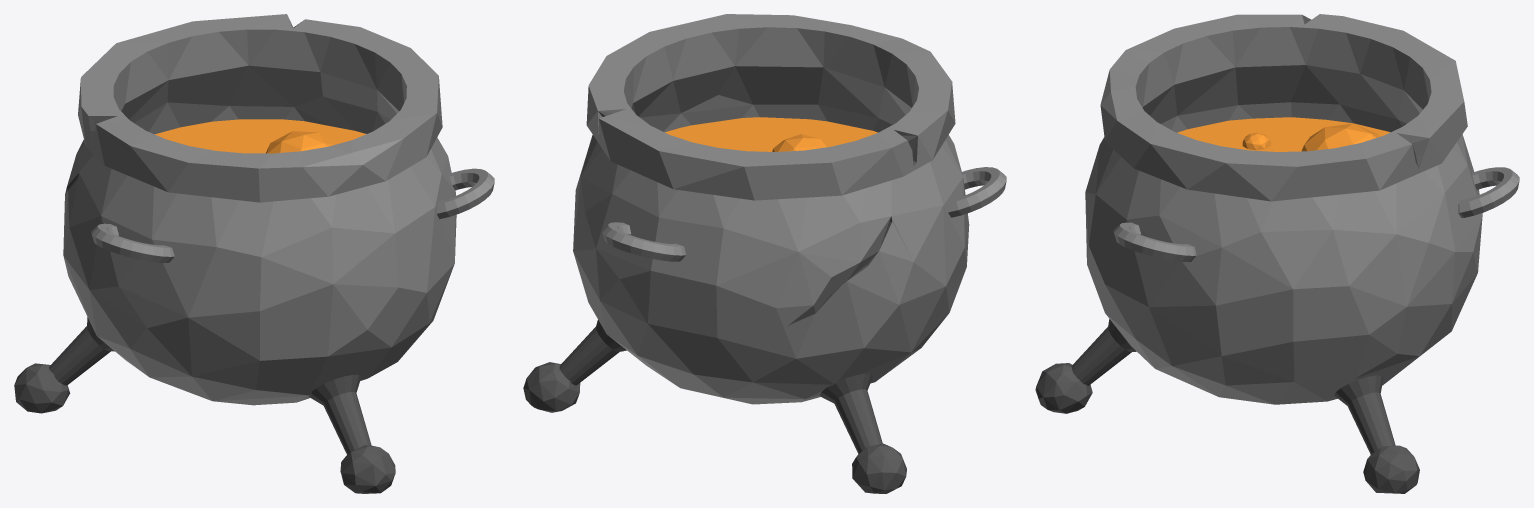
Rendered from Cauldron_Mid.fbx.
3 views of the same model, side by side, from view 1: azimuth 30°, elevation 25°; view 2: azimuth 150°, elevation 25°; view 3: azimuth 270°, elevation 25° (orthographic).
Parts seen in each view (by area): view 1: Cauldron Mid, Cauldron Big Fill; view 2: Cauldron Mid, Cauldron Big Fill; view 3: Cauldron Mid, Cauldron Big Fill.
Boxes of the visible parts, x1,y1,x2,y2 form: Cauldron Mid: (14, 14, 494, 493); Cauldron Big Fill: (155, 119, 366, 153); Cauldron Mid: (523, 14, 1006, 493); Cauldron Big Fill: (665, 117, 877, 151); Cauldron Mid: (1035, 14, 1519, 493); Cauldron Big Fill: (1177, 117, 1390, 151).
Size of the model in its own units: 134 by 106 by 145.
